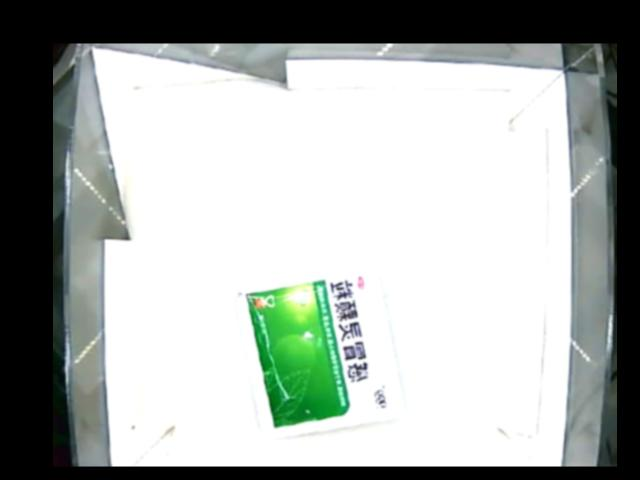Medicine: (230, 243, 408, 440)
